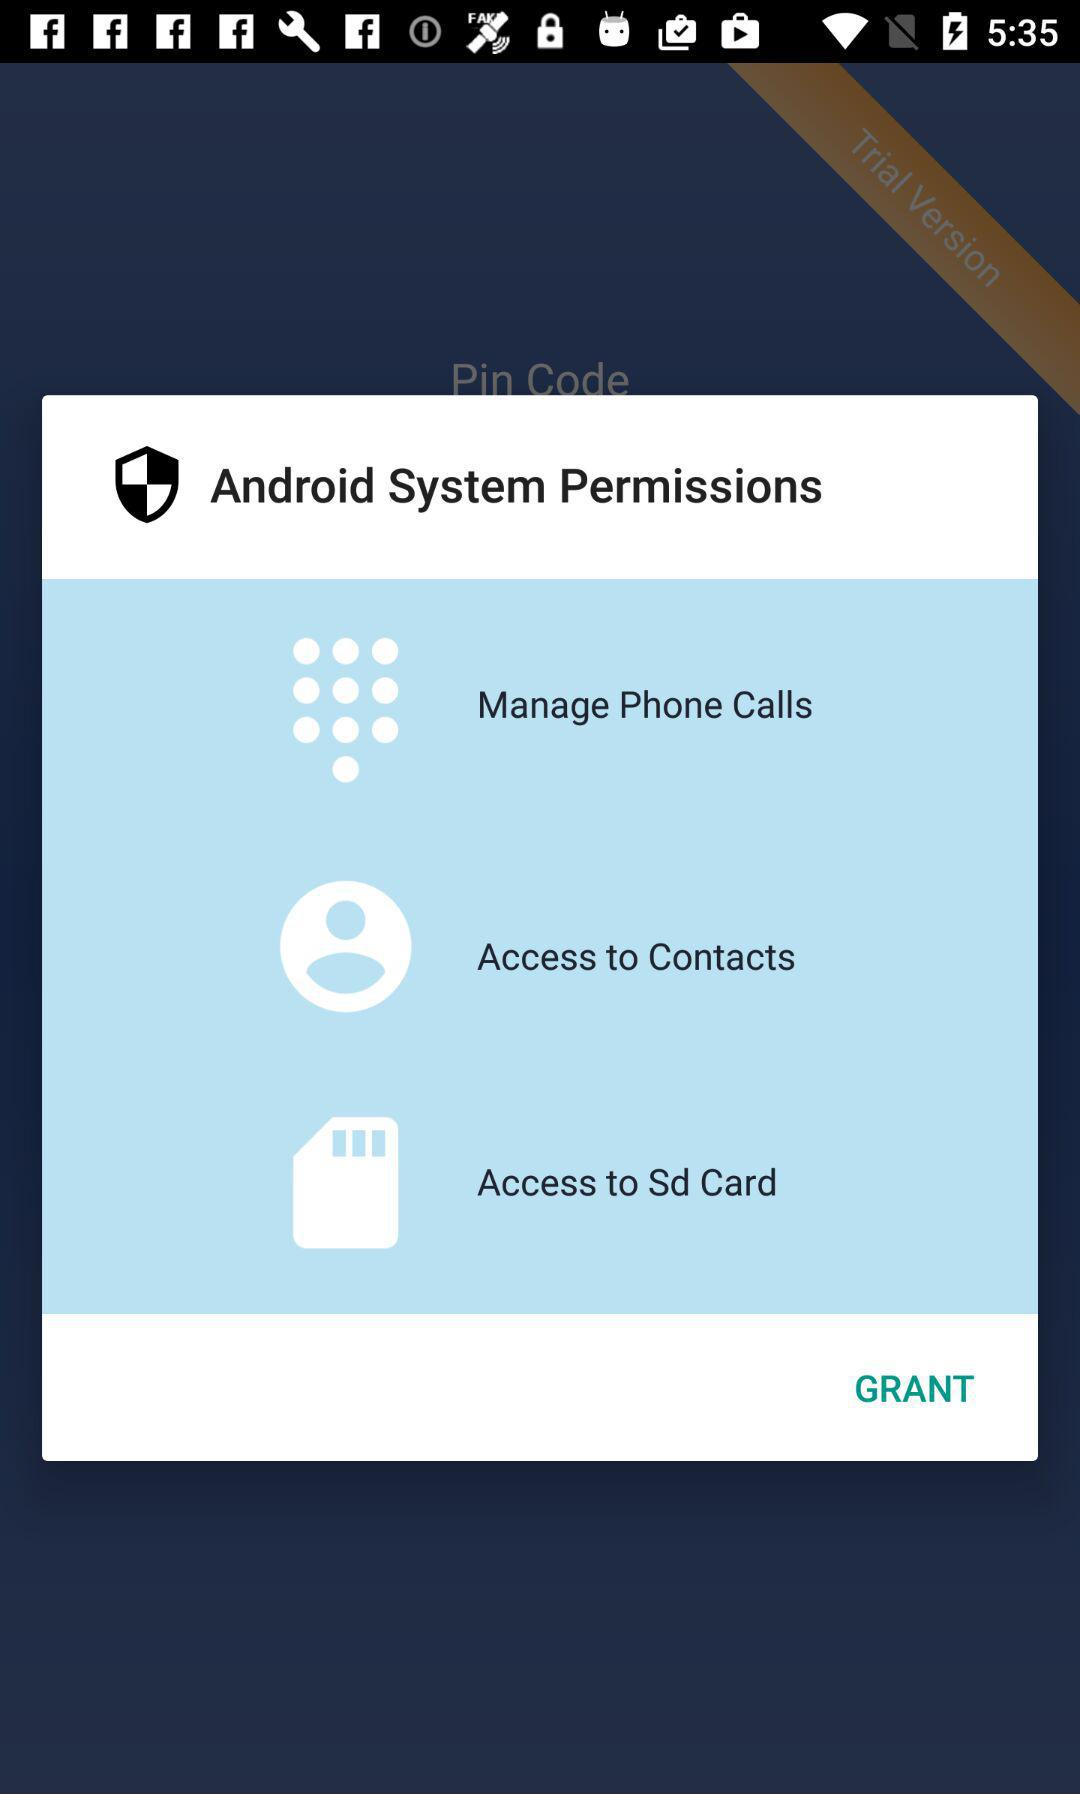Icon: (281, 882, 413, 1014), (293, 1116, 398, 1249)
Image: (292, 637, 400, 786), (115, 446, 181, 524)
Modal: (44, 395, 1038, 1462)
Text: (210, 466, 822, 515), (480, 689, 814, 727), (477, 1167, 776, 1198), (478, 944, 796, 973), (855, 1374, 975, 1403)
UpperTaskBar: (1, 1, 1080, 64)
